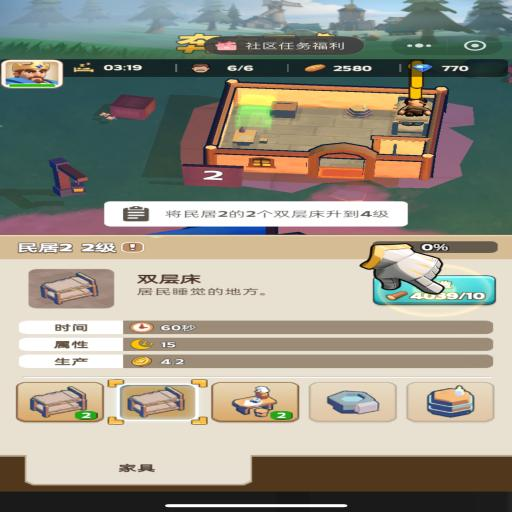newcomer_hand: (360, 242, 442, 295)
